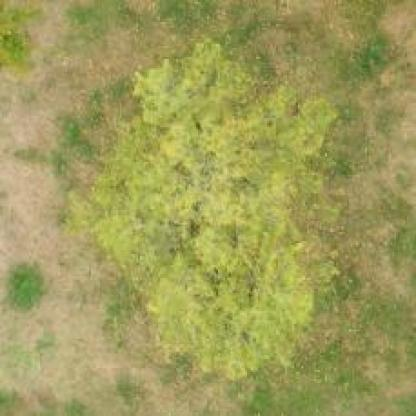Deciduous Tree: (61, 37, 364, 364)
